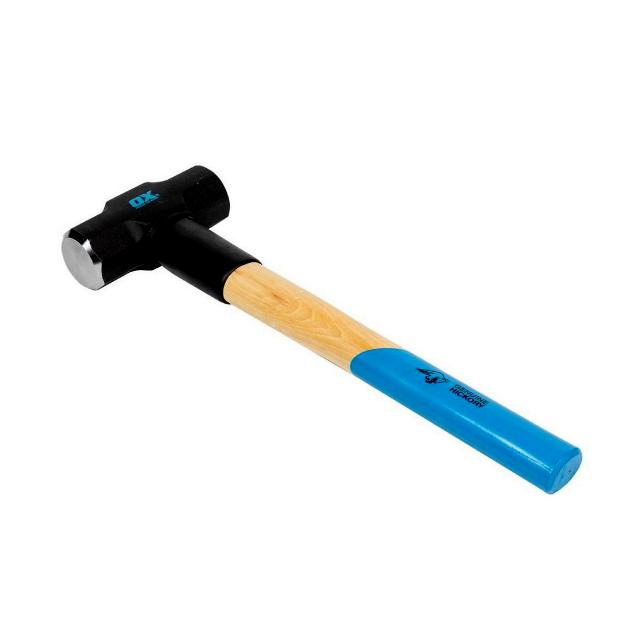hammer: (54, 156, 592, 502)
